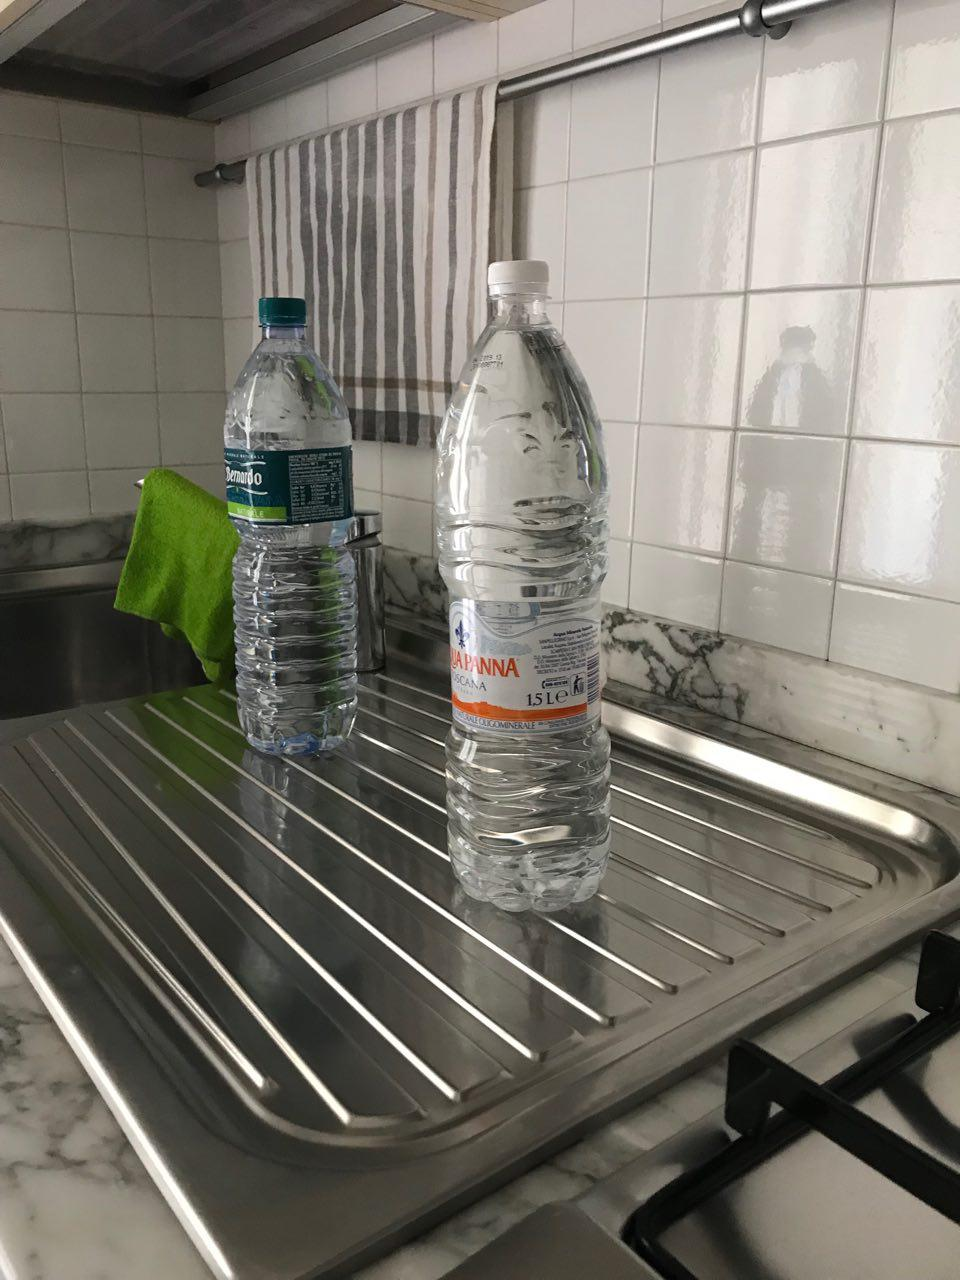san_bernardo: (222, 297, 359, 755)
